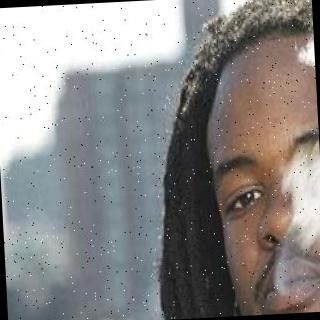smoke: (277, 140, 320, 249)
